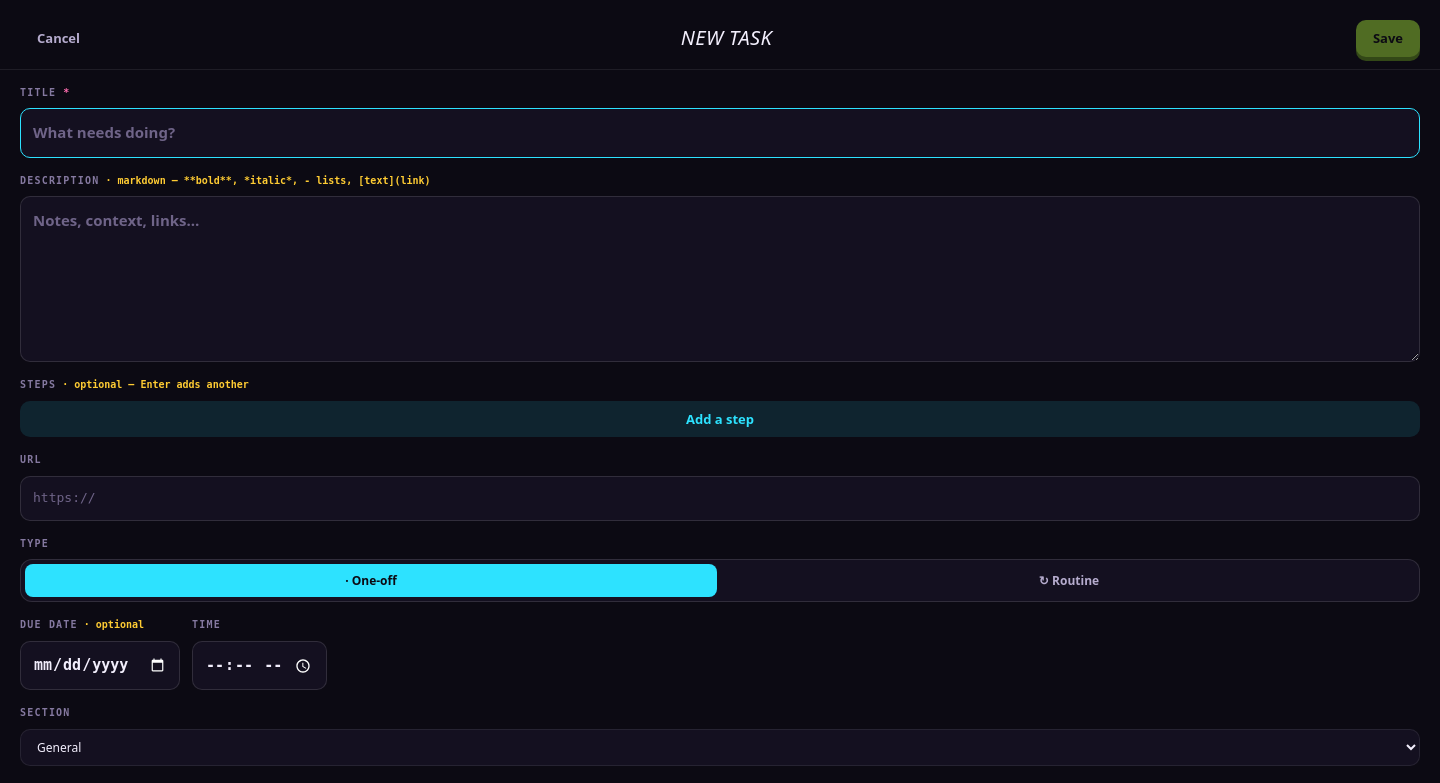
Test case: which section a new one-off lands in › goes away once the one-off has a date
The image size is (1440, 783).
Type "2026-08-09" into the date field labelled "Due date · optional" at (100, 666), box [20,641,180,690]
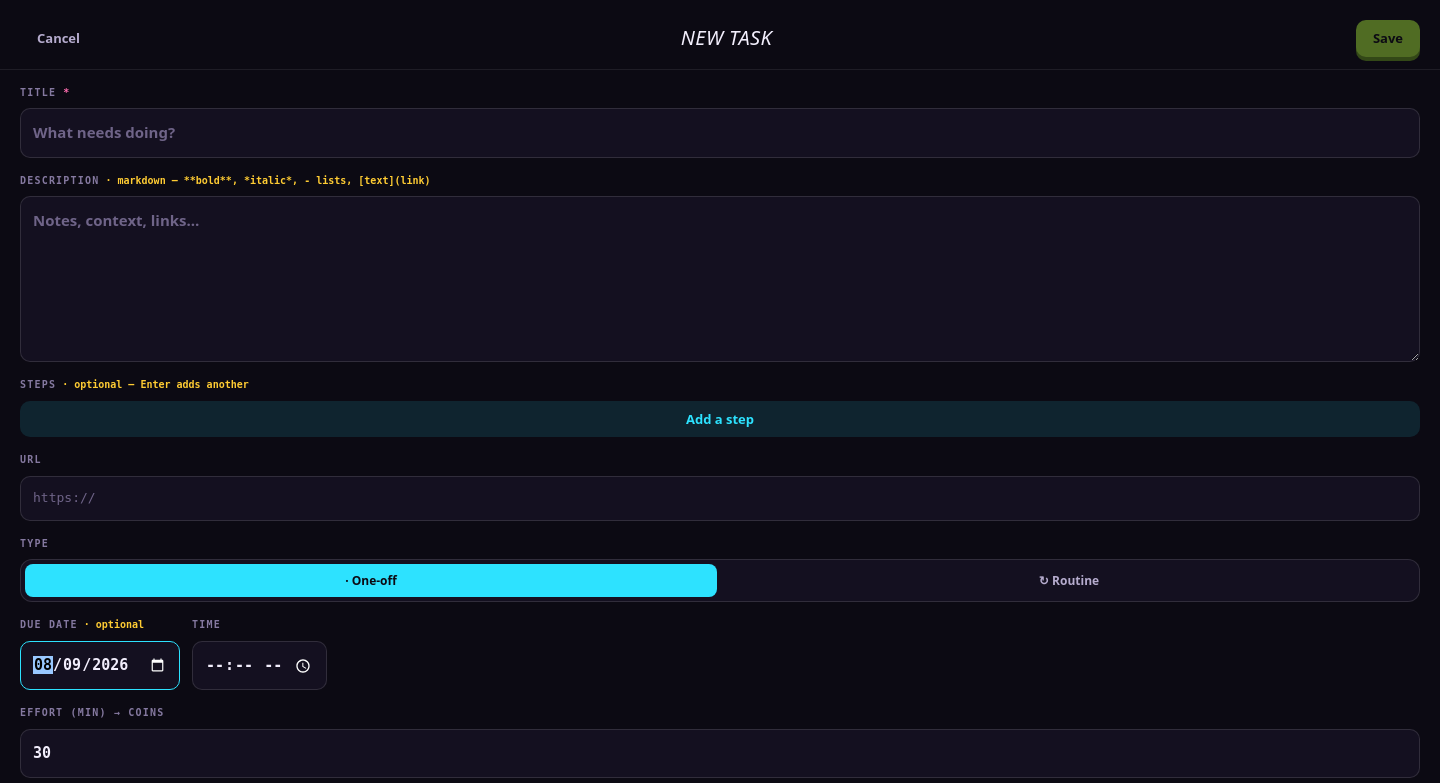
Check: the label "Section" is gone
